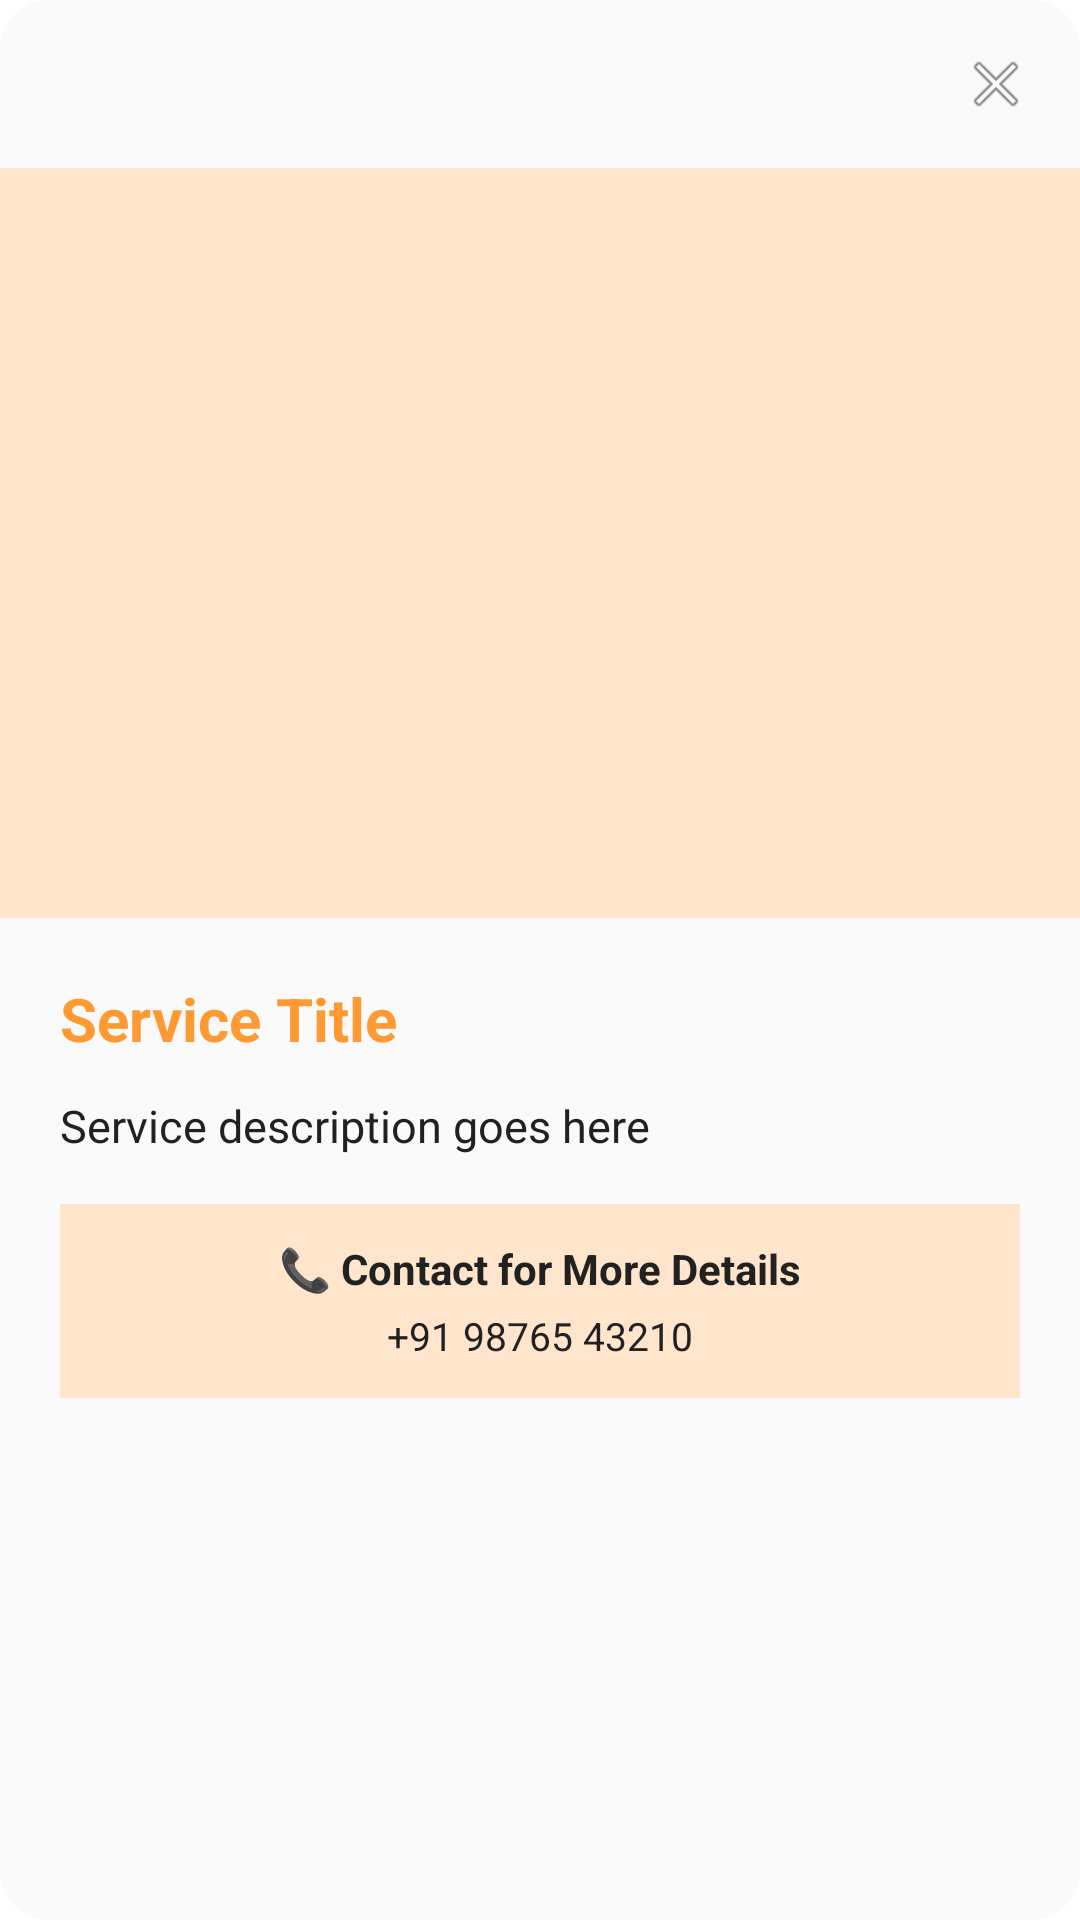

Icon click points for this 1080px x 1920px phone screenshot, format (x=x, y=y):
Close: (x=996, y=84)
